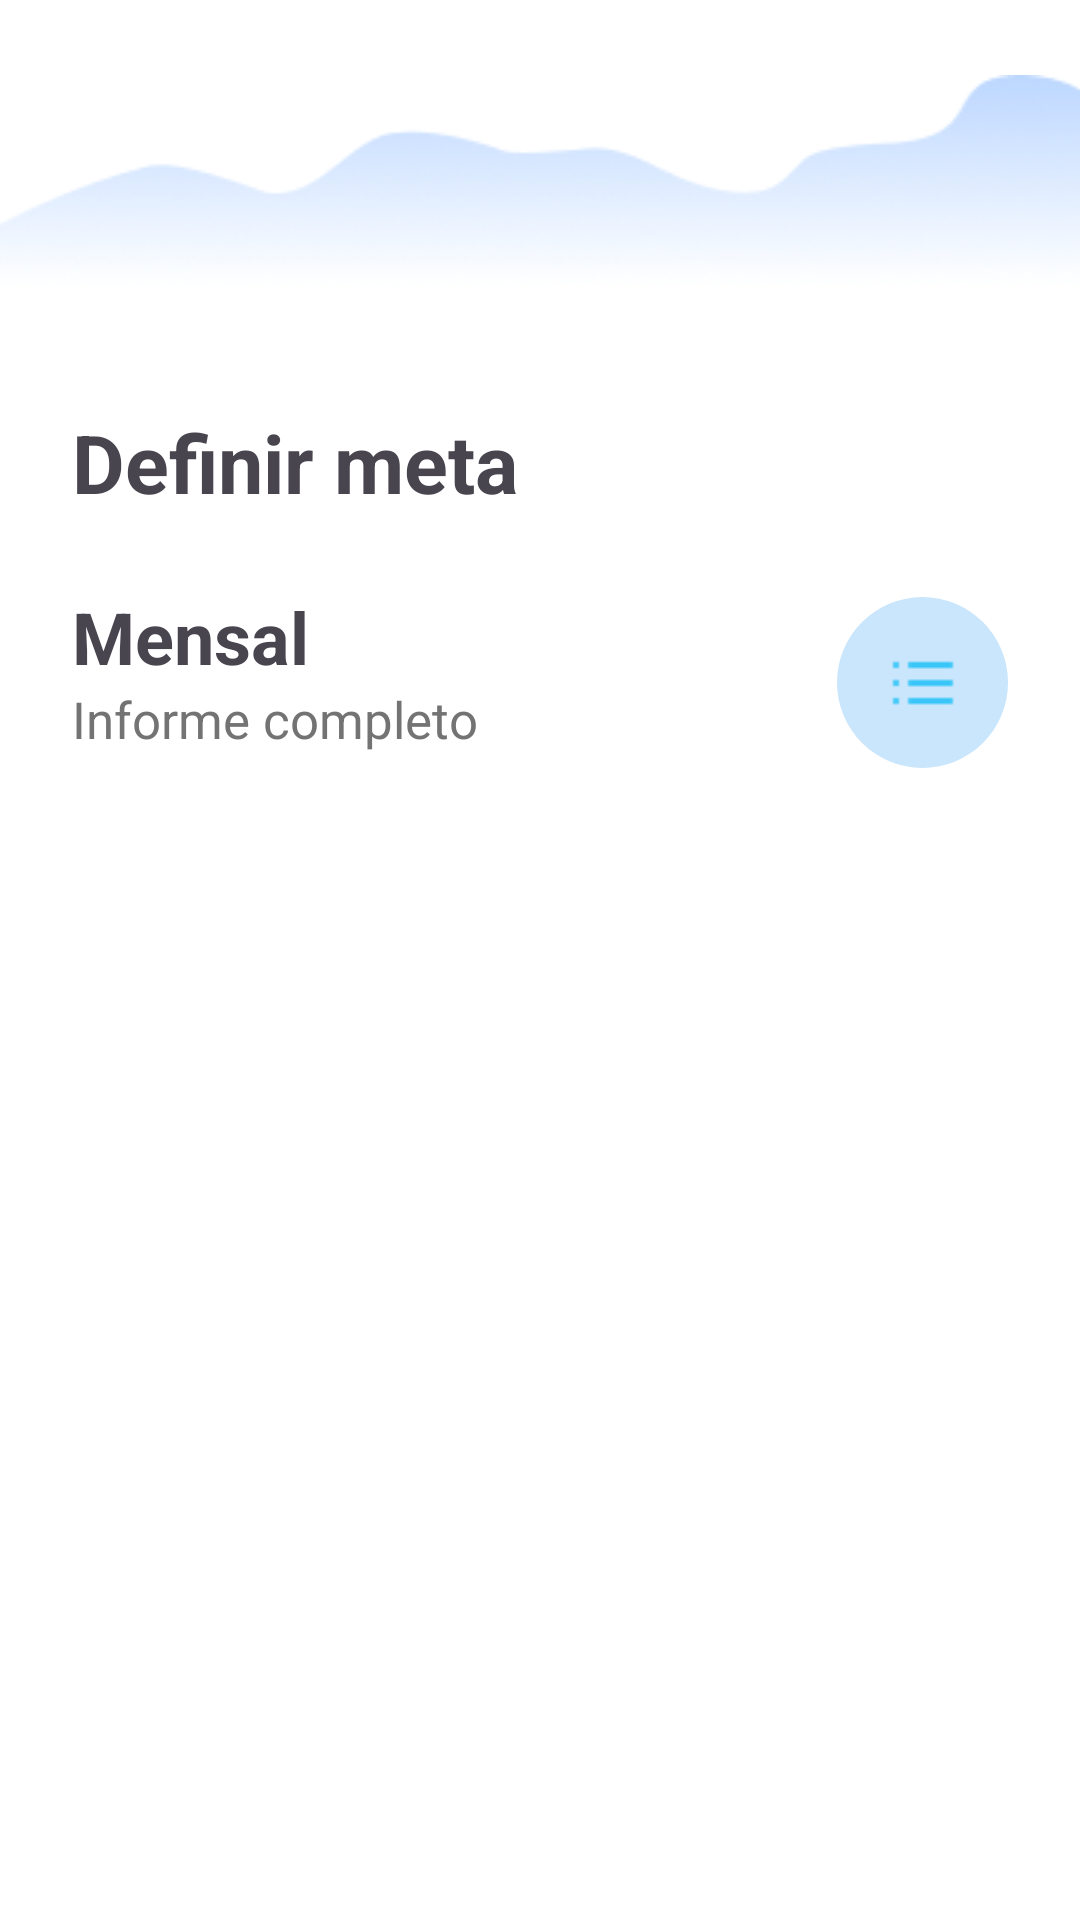

Named icons in this screenshot (1080px×1920px) and their bounding boxes, region(x1, y1, x2, y2):
list: region(837, 597, 1008, 768)
